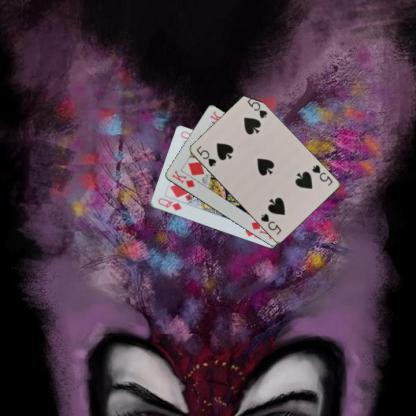5s: (309, 162, 333, 188), (194, 143, 217, 168)
Kd: (169, 167, 196, 189)
Qd: (155, 195, 182, 212)
